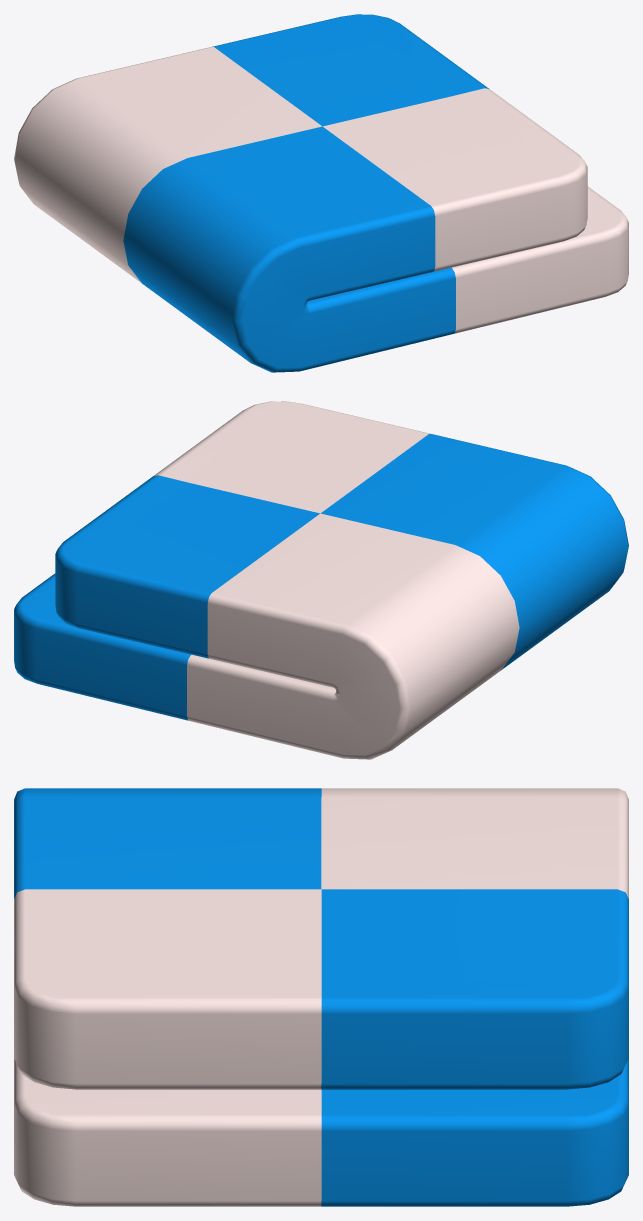
Rendered from Public_15_Towel_3.glb.
3 renders of one model, top to bottom at view 1: azimuth 30°, elevation 25°; view 2: azimuth 150°, elevation 25°; view 3: azimuth 270°, elevation 25°, orthographic. The views are drawn at different scales.
Parts seen in each view (by area): view 1: Public_15_Towel_3; view 2: Public_15_Towel_3; view 3: Public_15_Towel_3.
Part boxes in pixels (x1=…): Public_15_Towel_3: x1=14, y1=14, x2=628, y2=372; Public_15_Towel_3: x1=14, y1=401, x2=628, y2=759; Public_15_Towel_3: x1=14, y1=788, x2=628, y2=1206.
Bounding box in the file's own units: 1.82 × 0.569 × 1.73.
Materials: 1 (1 with a texture image).
